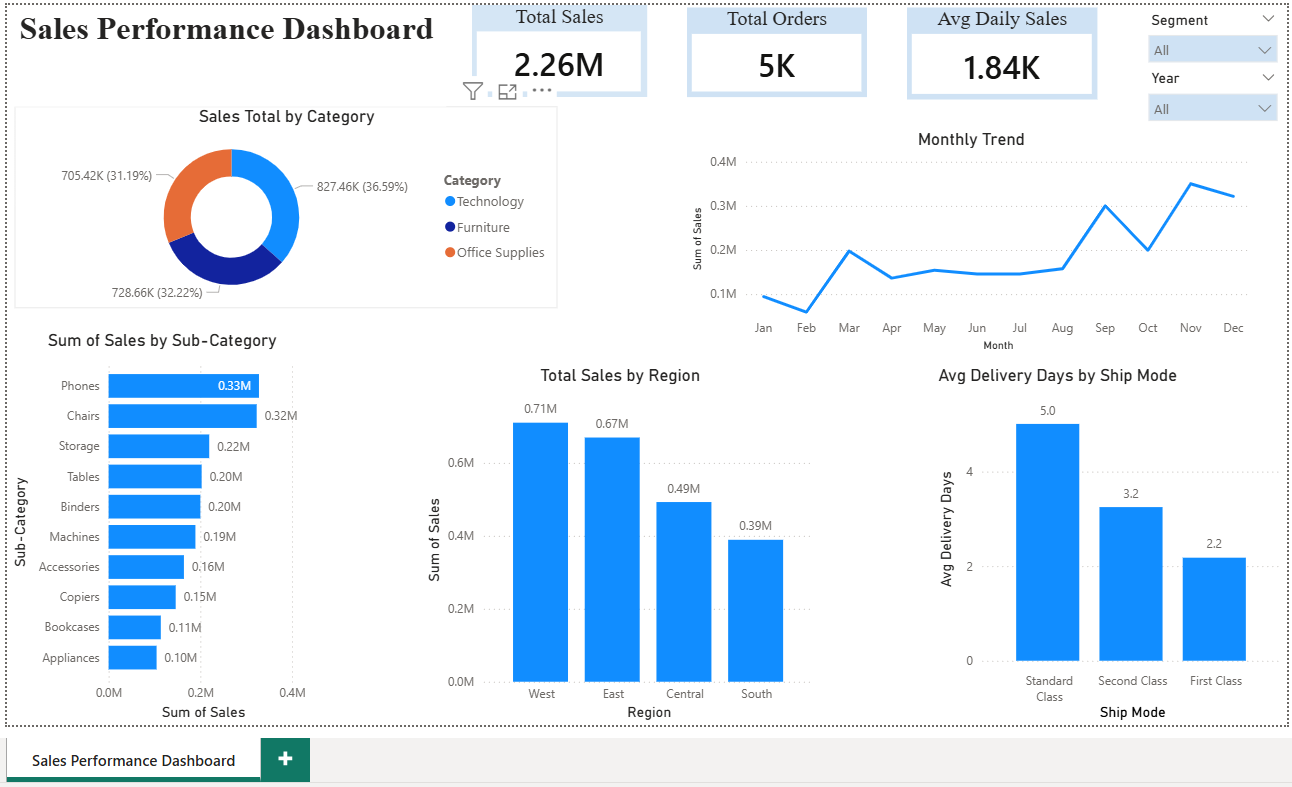

This screenshot's page, from the dashboard's own definition file:
{"tool":"powerbi","page":{"name":"Sales Performance Dashboard","canvas":[1280,720],"ordinal":0},"visuals":[{"type":"cardVisual","title":"Total Orders","fields":{"Data":["train (1).Total Orders"]},"box":[679.9,2.4,179.8,89.3],"z":0},{"type":"cardVisual","title":"Avg Daily Sales","fields":{"Data":["train (1).Avg Sales Per Day"]},"box":[900,2.4,190.8,91.7],"z":1000},{"type":"cardVisual","title":"Total Sales","fields":{"Data":["train (1).Total Sales"]},"box":[464.7,0,174.9,91.7],"z":2000},{"type":"clusteredColumnChart","title":"Total Sales by Region","fields":{"Category":["train (1).Region"],"Y":["Sum(train (1).Sales)"]},"box":[413.3,359.5,398.6,360.7],"z":3000},{"type":"donutChart","title":"Sales Total by Category","fields":{"Category":["train (1).Category"],"Y":["Sum(train (1).Sales)"]},"box":[7.1,101.4,544.3,202.9],"z":4000},{"type":"clusteredBarChart","fields":{"Category":["train (1).Sub-Category"],"Y":["Sum(train (1).Sales)"]},"box":[0,325.3,310.6,395],"z":5000},{"type":"columnChart","fields":{"Category":["train (1).Ship Mode"],"Y":["train (1).Avg Delivery Days"]},"box":[925.7,359.5,354.6,360.7],"z":6000},{"type":"lineChart","title":"Monthly Trend","fields":{"Y":["Sum(train (1).Sales)"],"Category":["train (1).Month"]},"box":[679.9,123.5,568.6,227.4],"z":7000},{"type":"slicer","fields":{"Values":["train (1).Segment"]},"box":[1131.1,1.2,149.2,66],"z":8000},{"type":"slicer","fields":{"Values":["train (1).Year"]},"box":[1131.1,59.9,149.2,63.6],"z":9000},{"type":"textbox","box":[0,0,439,101.5],"z":10000}]}

Visuals, with their boxes on the page's 1280x720 design canvas (x1, y1, x2, y2). These are canvas units, not pixel positions in the 1292x787 screenshot, which may show the page scaled, cropped or inside an application window:
"Total Orders" cardVisual: <box>680,2,860,92</box>
"Avg Daily Sales" cardVisual: <box>900,2,1091,94</box>
"Total Sales" cardVisual: <box>465,0,640,92</box>
"Total Sales by Region" clusteredColumnChart: <box>413,360,812,720</box>
"Sales Total by Category" donutChart: <box>7,101,551,304</box>
clusteredBarChart - train (1).Sub-Category x Sum(train (1).Sales): <box>0,325,311,720</box>
columnChart - train (1).Ship Mode x train (1).Avg Delivery Days: <box>926,360,1280,720</box>
"Monthly Trend" lineChart: <box>680,124,1248,351</box>
slicer - train (1).Segment: <box>1131,1,1280,67</box>
slicer - train (1).Year: <box>1131,60,1280,124</box>
textbox: <box>0,0,439,102</box>
